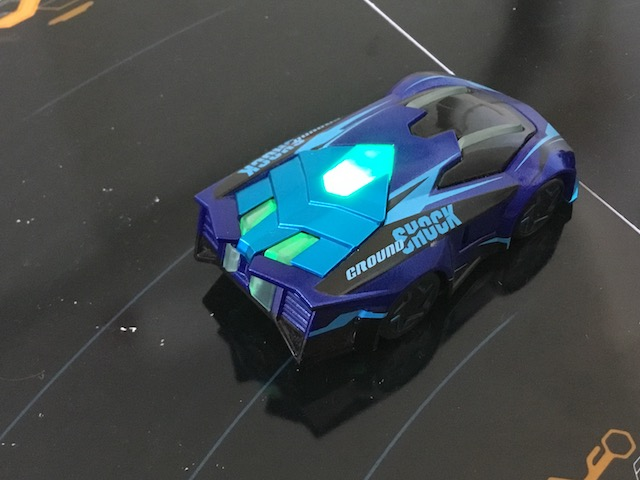car-blue: (190, 64, 583, 375)
